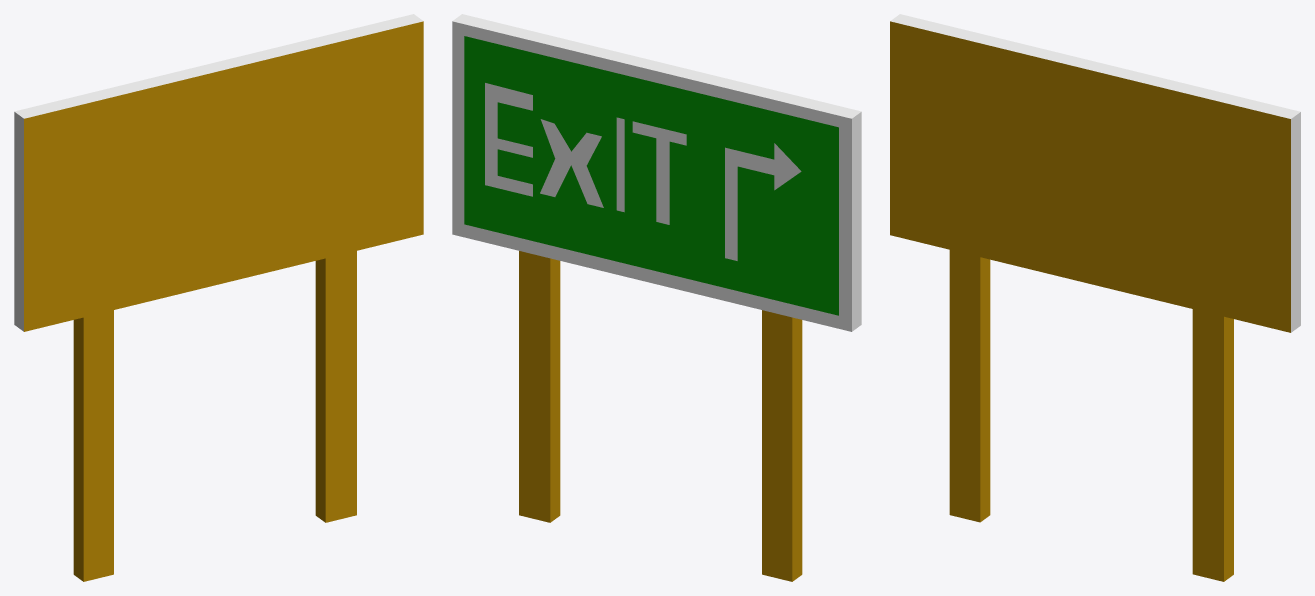
File: Exit sign (1).glb
The picture shows the model from 3 angles, left to right: view 1: azimuth 30°, elevation 25°; view 2: azimuth 150°, elevation 25°; view 3: azimuth 330°, elevation 25°; orthographic projection.
Parts seen in each view (by area): view 1: Model; view 2: Model; view 3: Model.
Part boxes in pixels (box(x1,y1,x2,y2)): Model: box(14, 14, 423, 581); Model: box(452, 14, 861, 581); Model: box(890, 14, 1300, 581).
Size of the model in its own units: 65.06 by 74.31 by 2.81.
